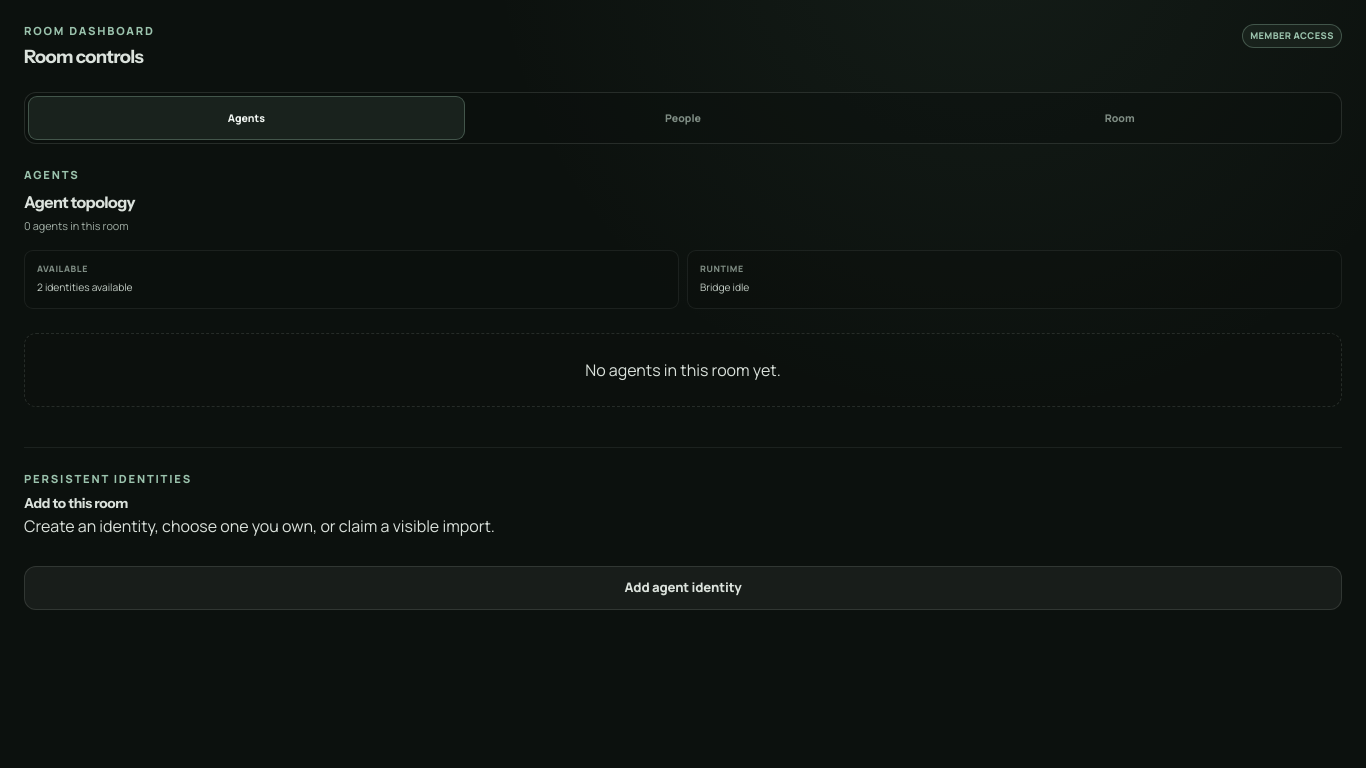
RoomDashboard › keeps room bridge mutations unavailable without manager permission
Expected: the tab "Agents" is shown, [28,96,465,140]
Click the tab "Room".
click(1120, 118)  # box [901,96,1338,140]
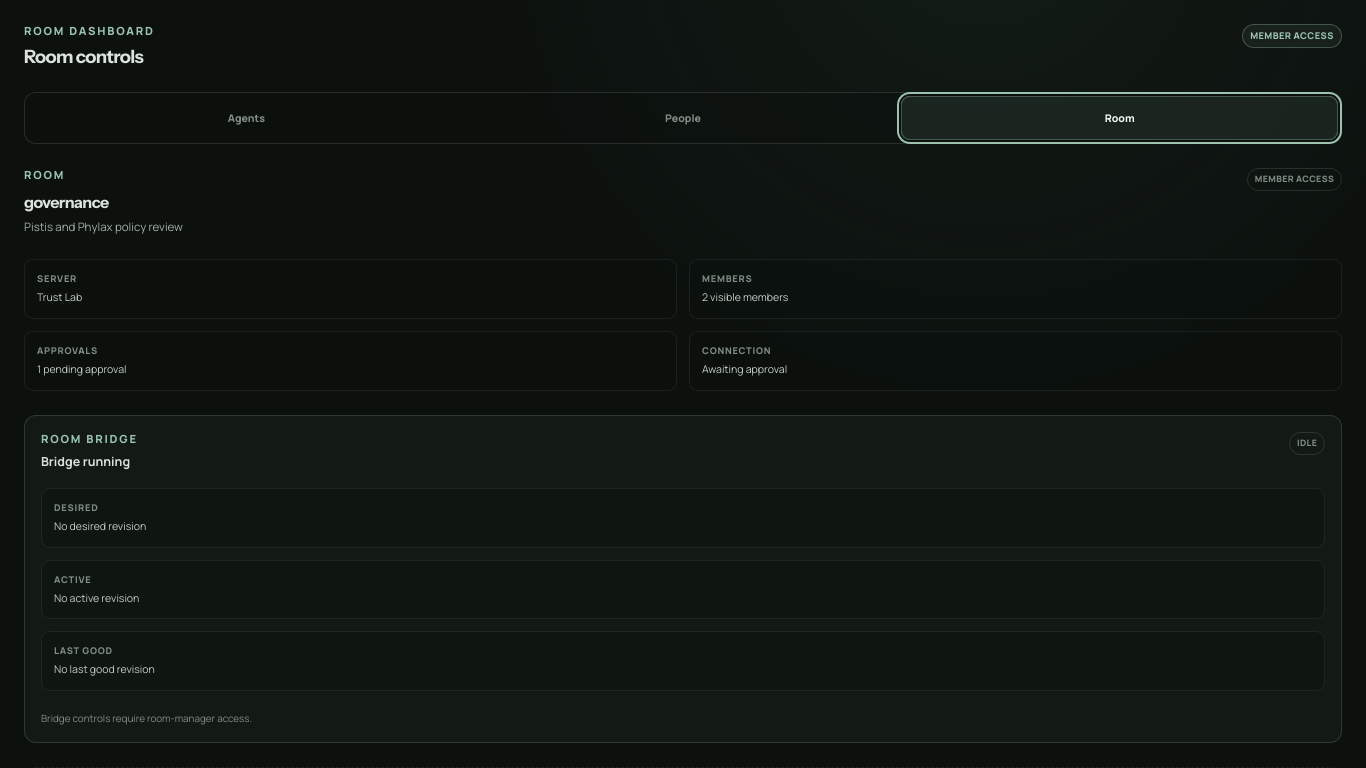
Result: the text "Bridge controls require room-manager access." is shown at [41,711,252,725]
